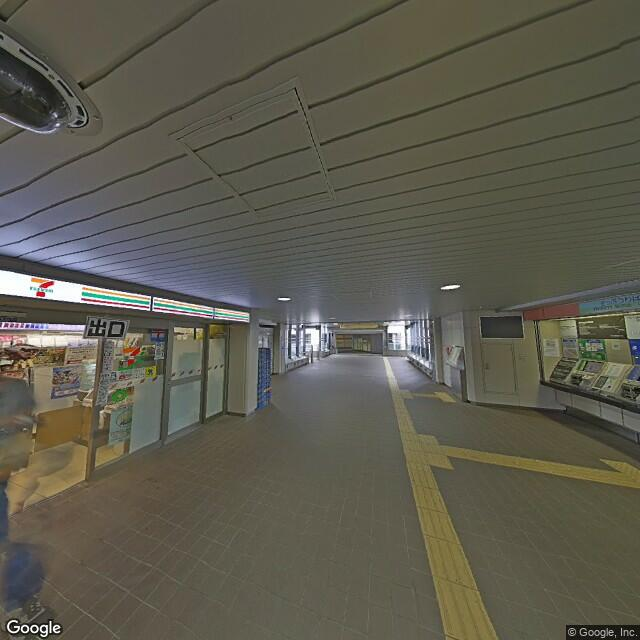7-eleven: (1, 266, 249, 324)
